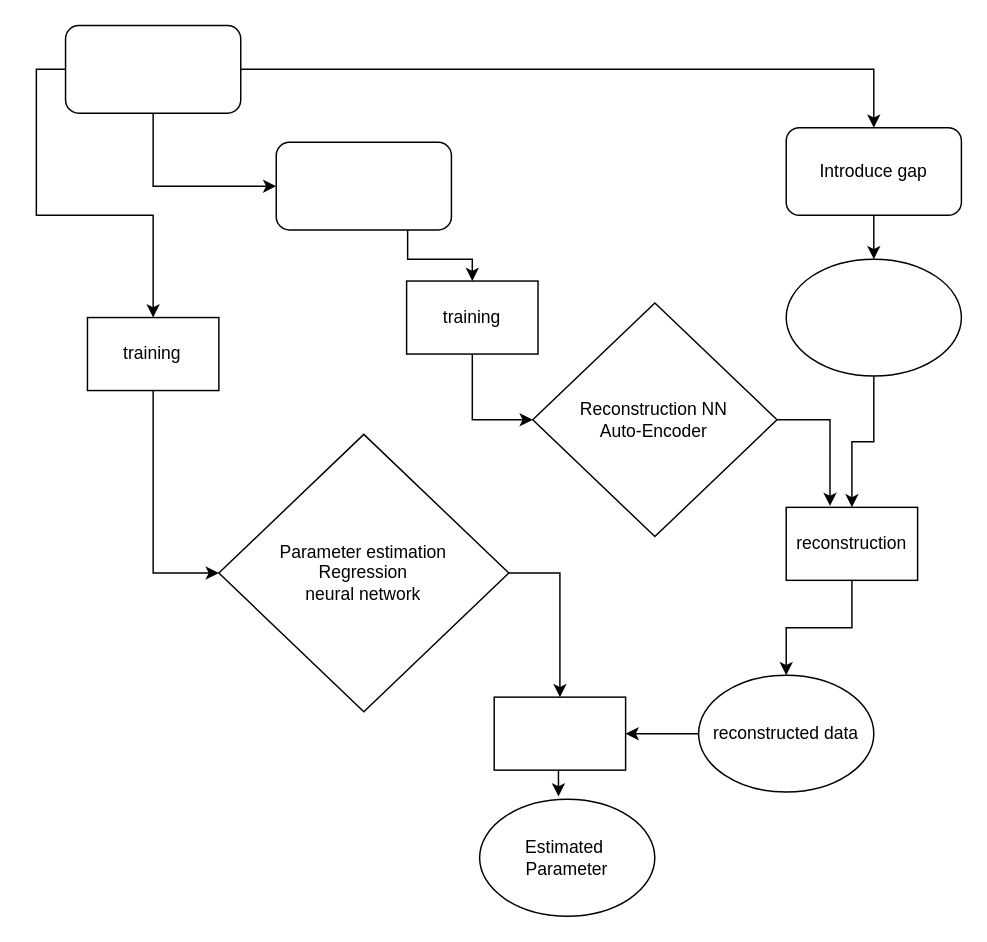
The diagram is 987 pixels wide and 942 high, and some of its shapes have lost their labels. Each missing label, with the centre of its shape:
"Add noise to data" belongs at [363,185].
"band-missing data" belongs at [873,317].
"Generate artifical spectrum" belongs at [152,68].
"prediction" belongs at [559,733].
